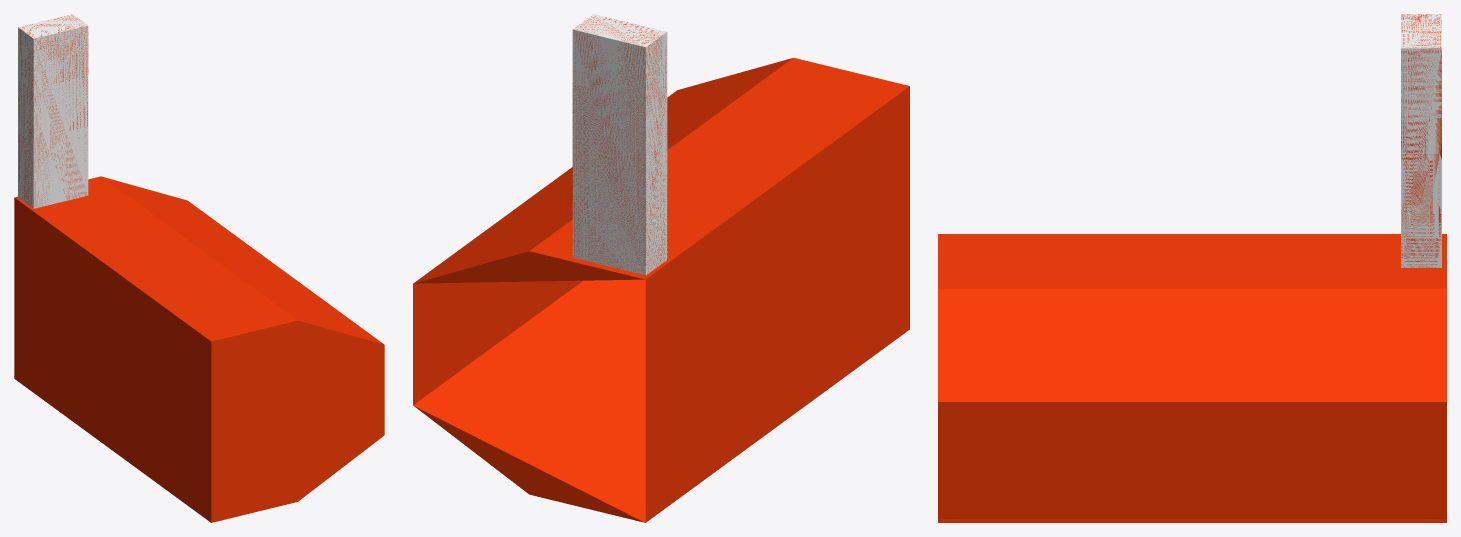
File: car2_planar_stick_robot.dae
The picture shows the model from 3 angles, left to right: view 1: azimuth 30°, elevation 25°; view 2: azimuth 150°, elevation 25°; view 3: azimuth 270°, elevation 25°; orthographic projection. The views are drawn at different scales.
Visible parts, largest first — view 1: instance_0, instance_0_001; view 2: instance_0, instance_0_001; view 3: instance_0, instance_0_001.
Boxes of the visible parts, <box> form: instance_0: <box>14,176,384,522</box>; instance_0_001: <box>18,14,88,208</box>; instance_0: <box>413,57,909,522</box>; instance_0_001: <box>572,14,667,275</box>; instance_0: <box>938,234,1446,522</box>; instance_0_001: <box>1401,14,1441,267</box>.
Bounding box in the file's own units: 4 × 7.87 × 7.78.
